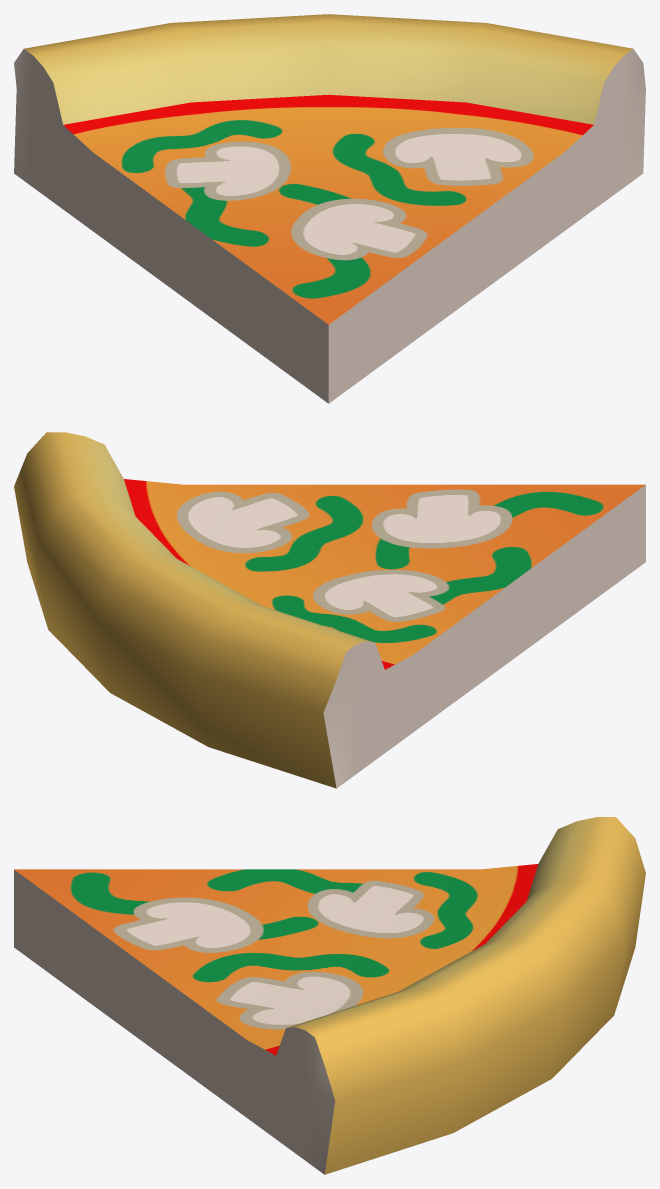
Rendered from pizza.fbx.
3 views of the same model, one above another, from view 1: azimuth 30°, elevation 25°; view 2: azimuth 150°, elevation 25°; view 3: azimuth 270°, elevation 25° (orthographic).
Parts seen in each view (by area): view 1: pizza; view 2: pizza; view 3: pizza.
Part boxes in pixels (x1,y1,x2,y2): pizza: (14,14,645,403); pizza: (14,432,645,788); pizza: (14,817,645,1174).
Bounding box in the file's own units: 49.5 × 13.01 × 57.16.
1 material, 1 textured.
